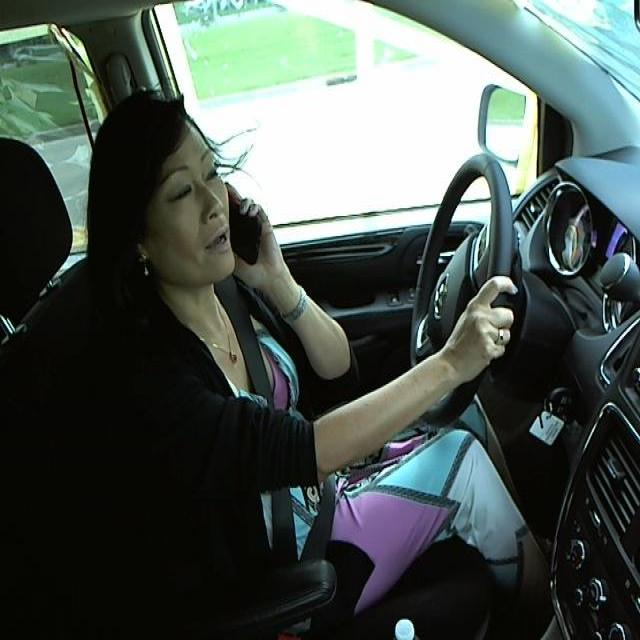using_phone: (67, 82, 299, 355)
